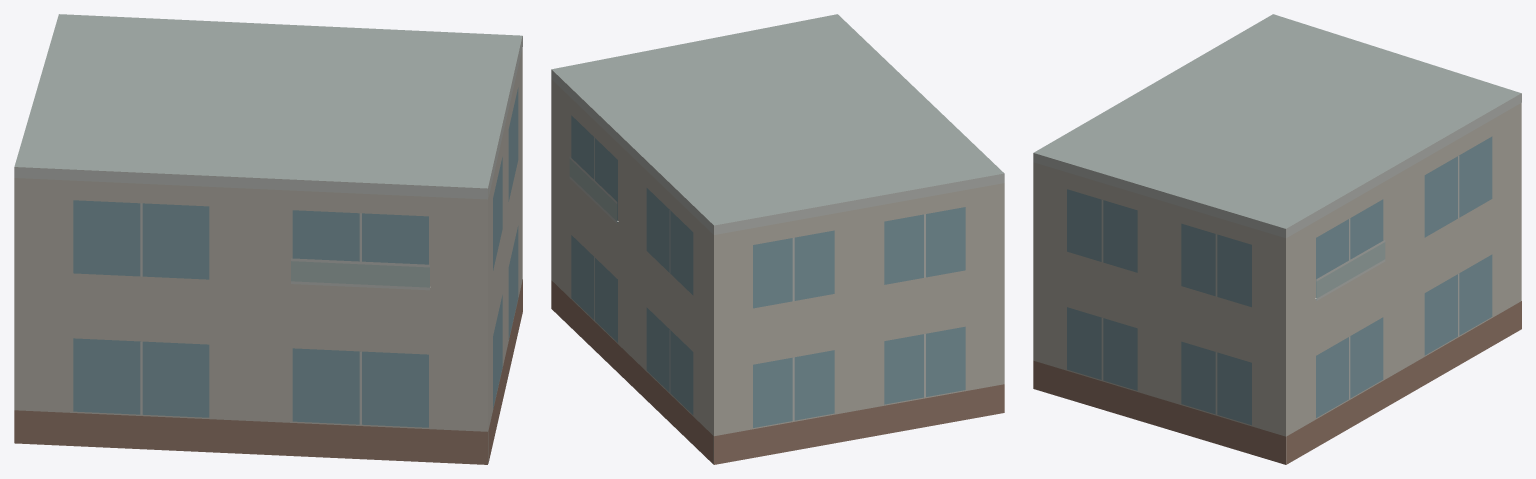
Rendered from survey-upis-32654940.glb.
The picture shows the model from 3 angles, left to right: view 1: azimuth 30°, elevation 25°; view 2: azimuth 150°, elevation 25°; view 3: azimuth 270°, elevation 25°; orthographic projection. The views are drawn at different scales.
Parts seen in each view (by area): view 1: survey-upis-32654940.tmp; view 2: survey-upis-32654940.tmp; view 3: survey-upis-32654940.tmp.
Boxes of the visible parts, <box> form: survey-upis-32654940.tmp: <box>14,14,522,464</box>; survey-upis-32654940.tmp: <box>551,14,1004,464</box>; survey-upis-32654940.tmp: <box>1033,14,1521,464</box>.
Bounding box in the file's own units: 11.92 × 6.1 × 11.45.
